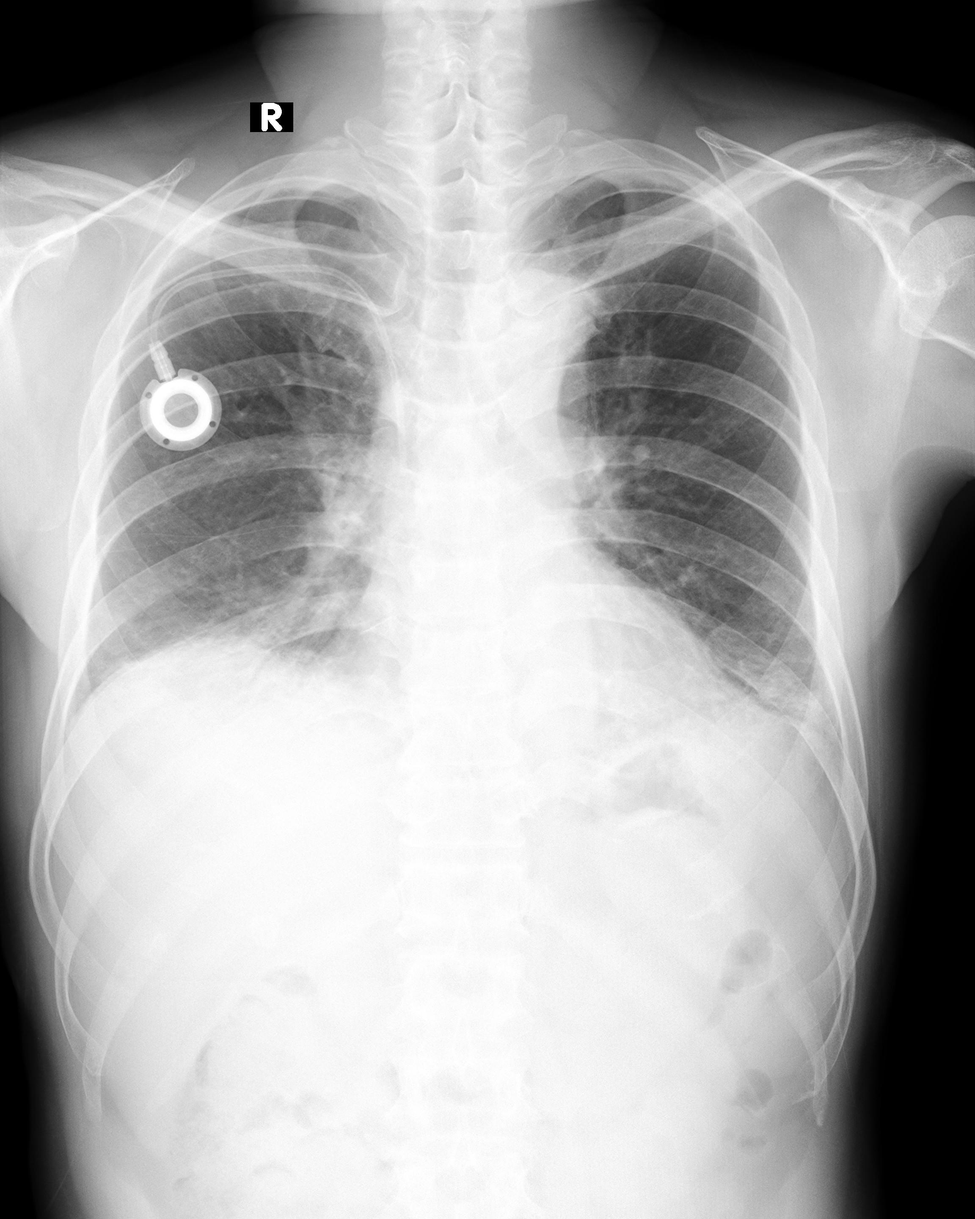Aortic enlargement: (491, 268, 606, 422)
